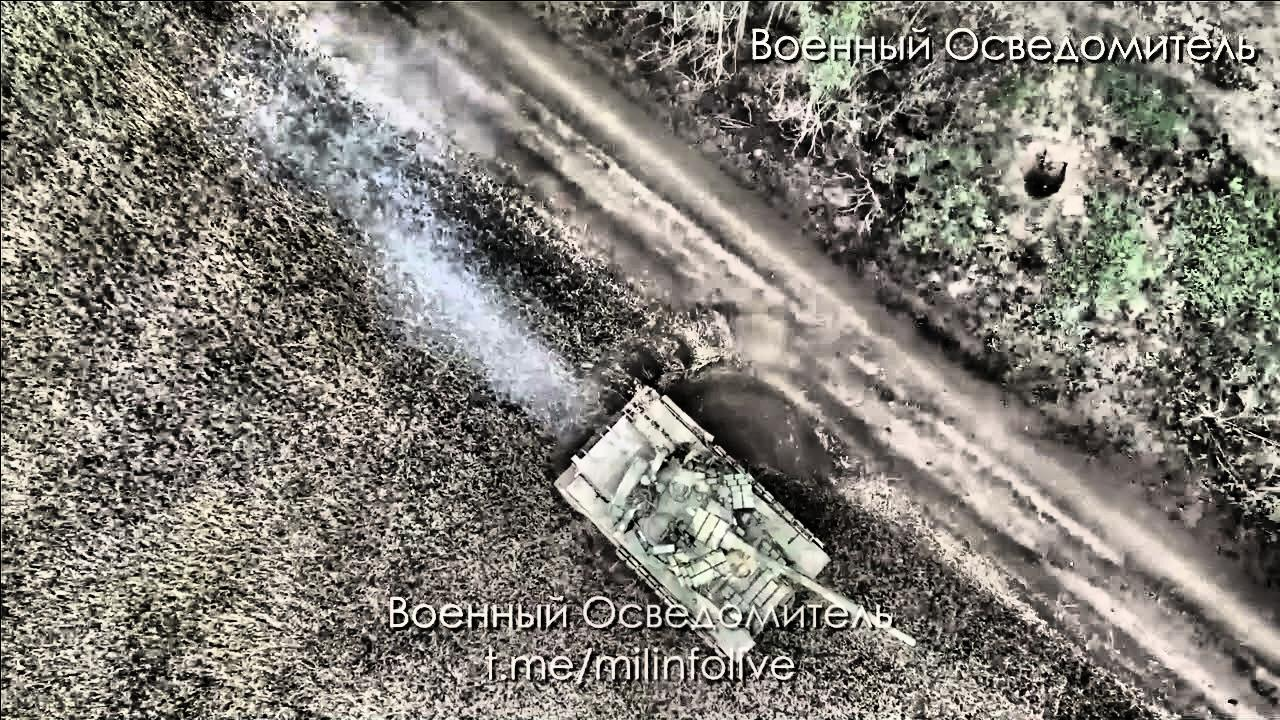military-vehicle: (554, 383, 918, 659)
